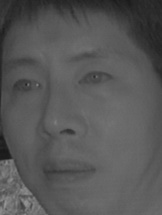eye: (77, 68, 118, 91), (8, 76, 44, 97)
mouth: (36, 151, 96, 189)
